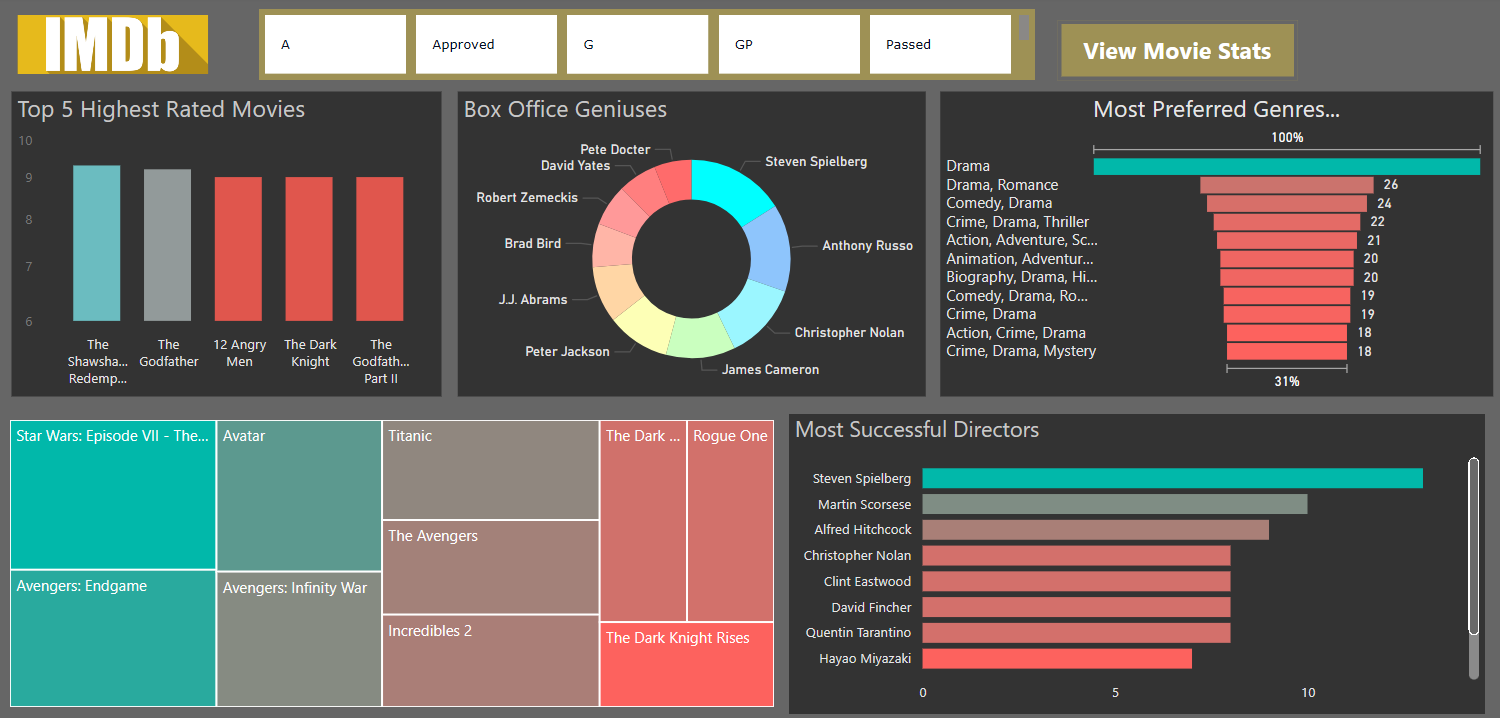

This screenshot's page, from the dashboard's own definition file:
{"tool":"powerbi","page":{"name":"Page 1","canvas":[1280,720],"ordinal":0},"visuals":[{"type":"columnChart","title":"Top 5 Highest Rated Movies","fields":{"Y":["imdb_top_1000.IMDB_Rating"],"Category":["imdb_top_1000.Series_Title"]},"box":[18,66,344,244],"z":0},{"type":"treemap","fields":{"Group":["imdb_top_1000.Series_Title"],"Values":["imdb_top_1000.Gross"]},"box":[12,324,621,240],"z":1000},{"type":"funnel","title":"Most Preferred Genres...","fields":{"Category":["imdb_top_1000.Genre"],"Y":["imdb_top_1000.Genre"]},"box":[761,66,443,244],"z":2000},{"type":"barChart","title":"Most Successful Directors","fields":{"Y":["imdb_top_1000.Director"],"Category":["imdb_top_1000.Director"]},"box":[640,324,557,240],"z":3000},{"type":"donutChart","title":"Box Office Geniuses","fields":{"Category":["imdb_top_1000.Director"],"Y":["imdb_top_1000.Gross"]},"box":[375,66,375,244],"z":4000},{"type":"image","box":[12,0,175,57],"z":5000},{"type":"advancedSlicerVisual","fields":{"Values":["imdb_top_1000.Certificate"]},"box":[216,0,621,57],"z":6000},{"type":"actionButton","box":[855,9,192,48],"z":7000}]}

Visuals, with their boxes on the page's 1280x720 design canvas (x1, y1, x2, y2). These are canvas units, not pixel positions in the 1500x718 screenshot, which may show the page scaled, cropped or inside an application window:
"Top 5 Highest Rated Movies" columnChart: BBox(18, 66, 362, 310)
treemap - imdb_top_1000.Series_Title x imdb_top_1000.Gross: BBox(12, 324, 633, 564)
"Most Preferred Genres..." funnel: BBox(761, 66, 1204, 310)
"Most Successful Directors" barChart: BBox(640, 324, 1197, 564)
"Box Office Geniuses" donutChart: BBox(375, 66, 750, 310)
image: BBox(12, 0, 187, 57)
advancedSlicerVisual - imdb_top_1000.Certificate: BBox(216, 0, 837, 57)
actionButton: BBox(855, 9, 1047, 57)
